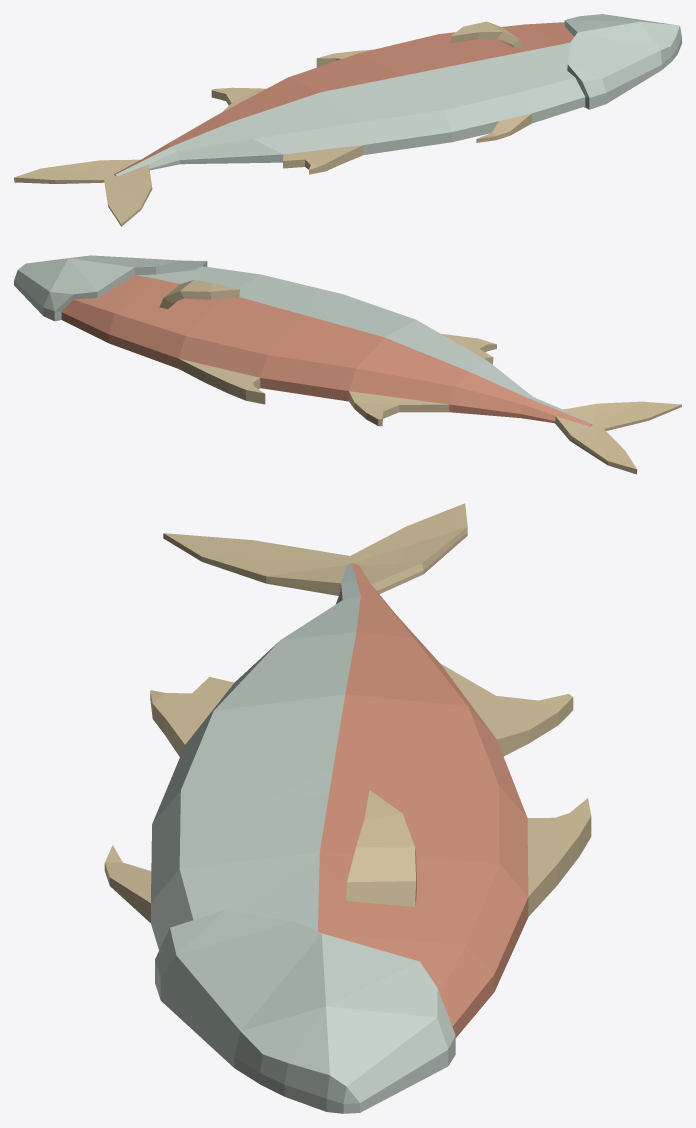
The model's file is ingredient_fish.glb.
The picture shows the model from 3 angles, top to bottom: view 1: azimuth 30°, elevation 25°; view 2: azimuth 150°, elevation 25°; view 3: azimuth 270°, elevation 25°; orthographic projection. The views are drawn at different scales.
Parts seen in each view (by area): view 1: Fish_Cube.085; view 2: Fish_Cube.085; view 3: Fish_Cube.085.
Part boxes in pixels (bbox=[...]): Fish_Cube.085: bbox=[14, 14, 681, 226]; Fish_Cube.085: bbox=[14, 255, 681, 474]; Fish_Cube.085: bbox=[104, 503, 591, 1113].
Size of the model in its own units: 3.2 by 0.303 by 1.06.
